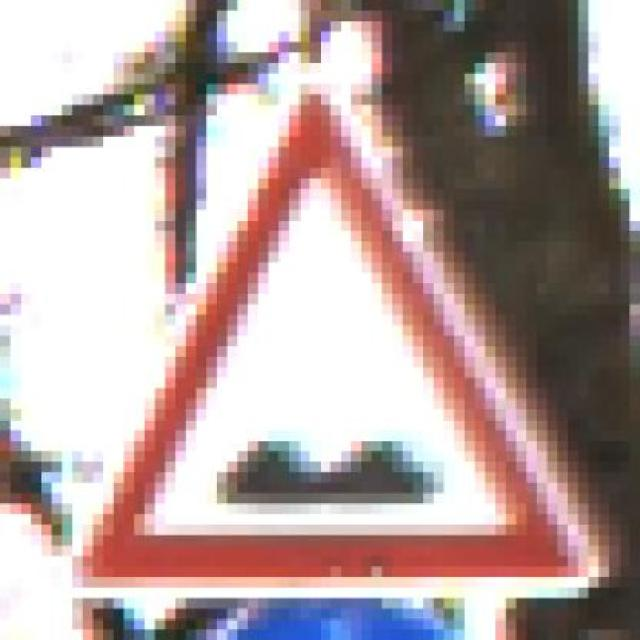Uneven Road: (72, 73, 610, 609)
